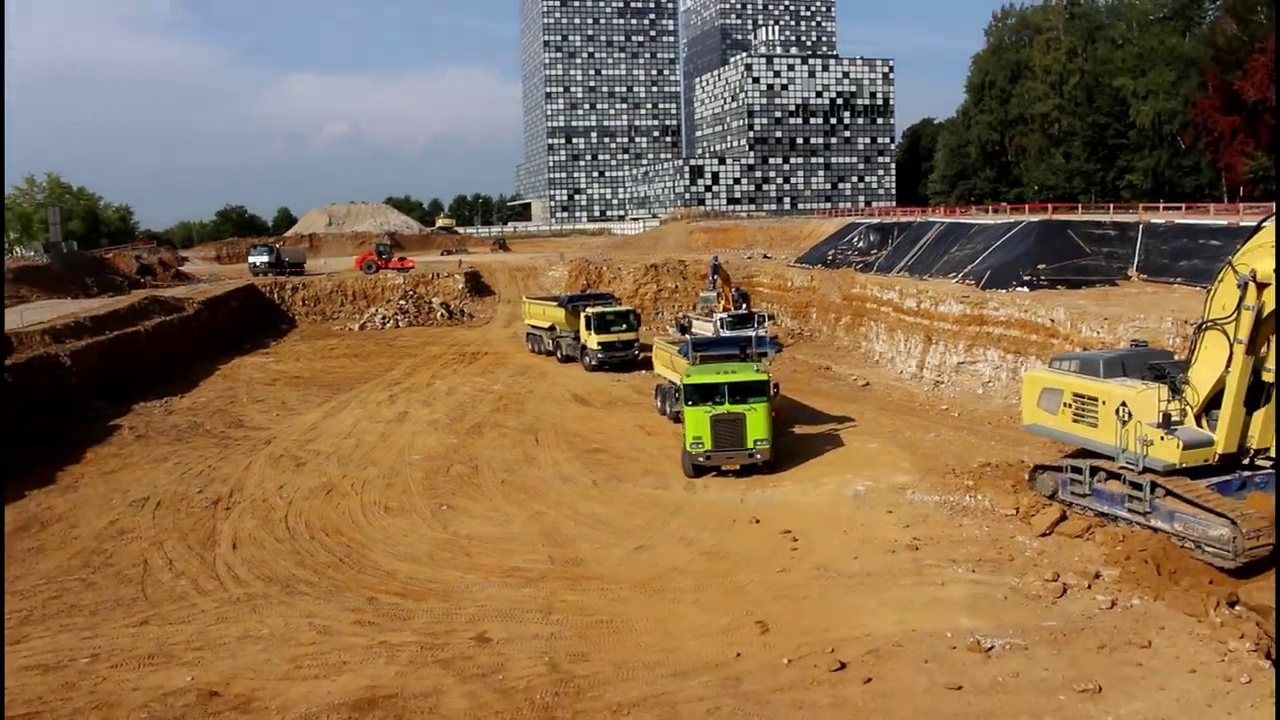compactor: (354, 240, 416, 275)
excavator: (1019, 202, 1280, 572), (693, 257, 765, 348), (430, 206, 462, 237)
truck: (647, 313, 779, 482), (519, 288, 646, 378), (678, 307, 778, 361), (244, 240, 310, 282)
worker: (282, 254, 295, 282)
